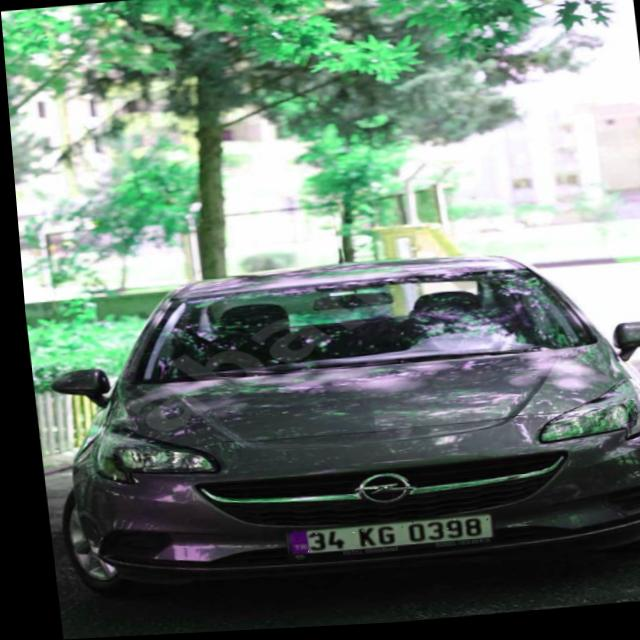license_plate: (275, 518, 485, 557)
